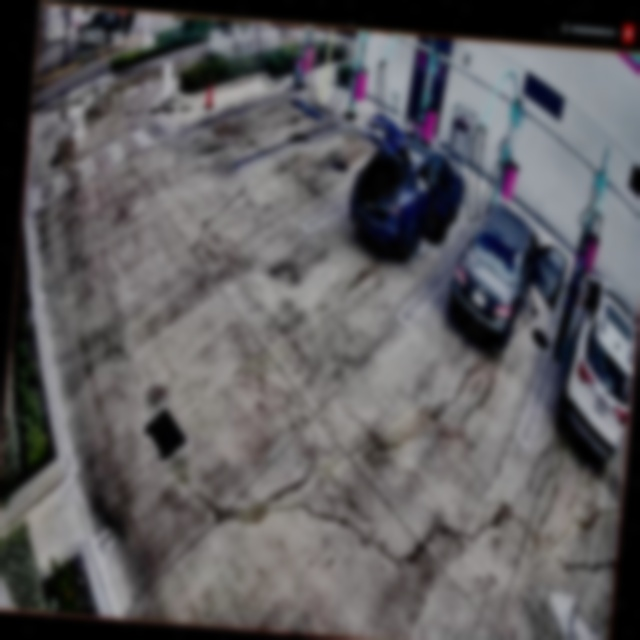Car: (347, 115, 470, 265), (448, 196, 566, 342)
